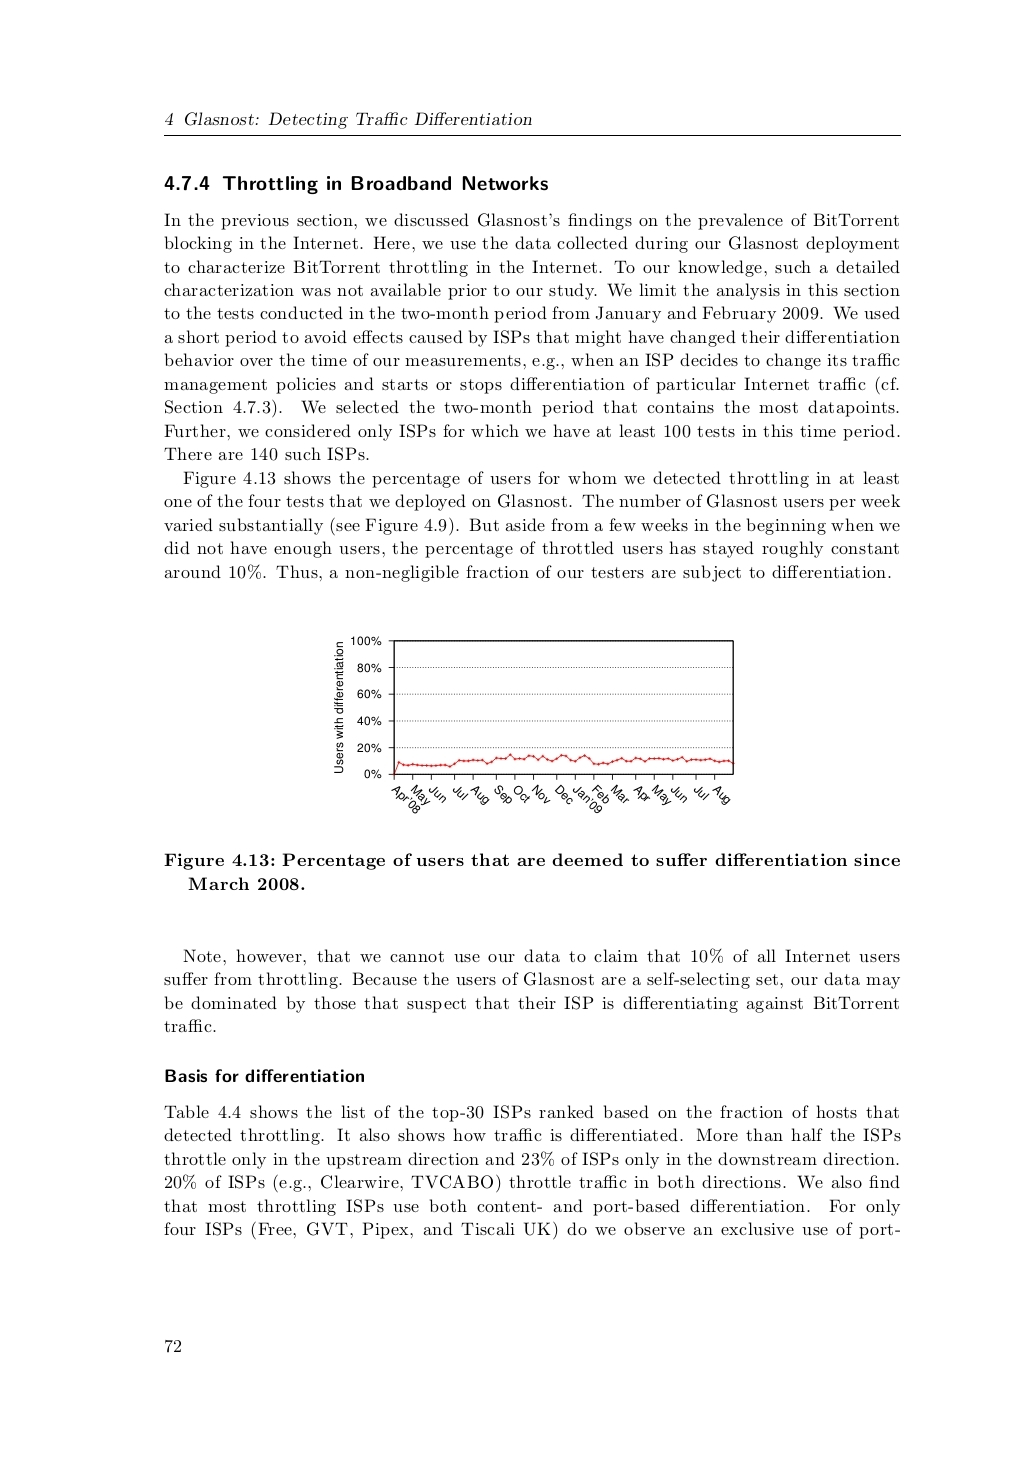figure: (334, 636, 734, 813)
